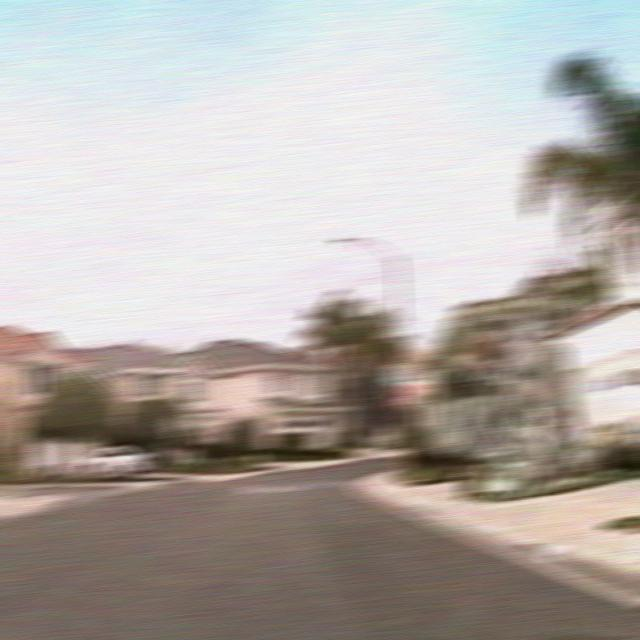stop_sign: (389, 388, 414, 412)
